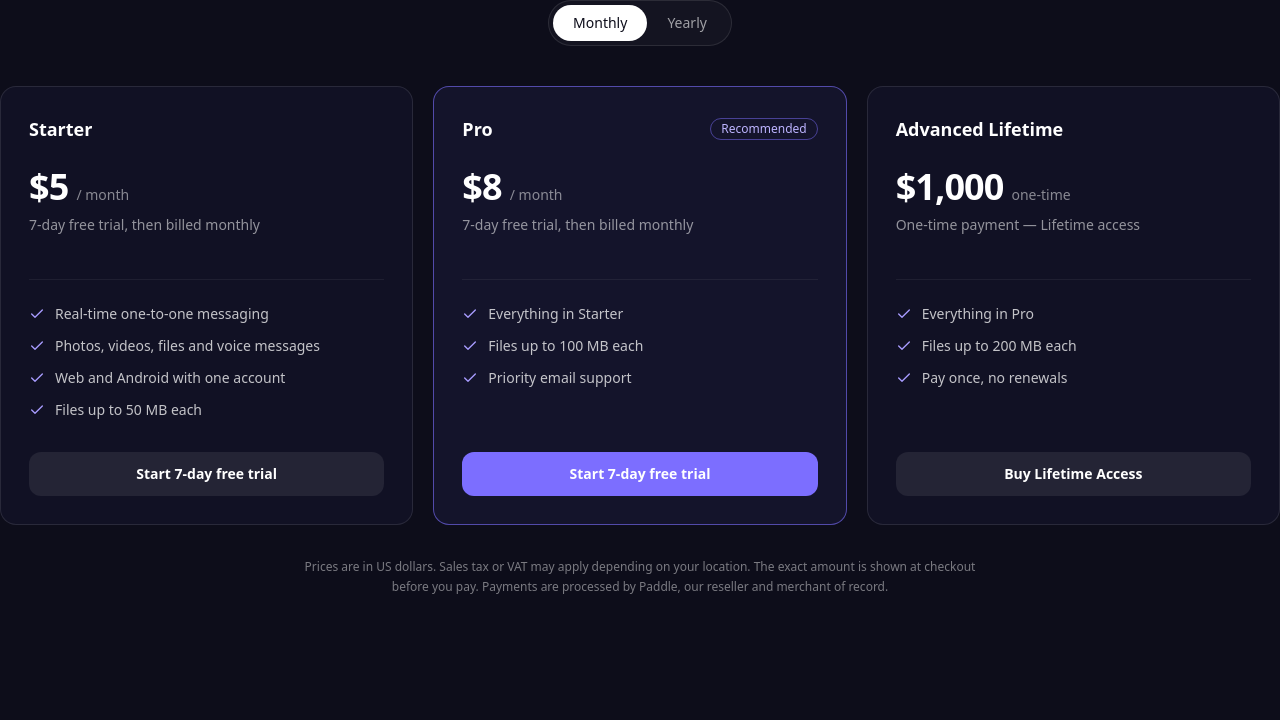
Test: pricing table › shows exactly the five final prices and switches Starter and Pro between monthly and yearly
Check: the text with test id "price-starter" reads "$5", box [29, 162, 68, 211]
Check: the text "/ month" next to "$5" is shown, box [76, 185, 129, 204]
Click the radio button labelled "Yearly" at (687, 23), box [647, 5, 727, 41]
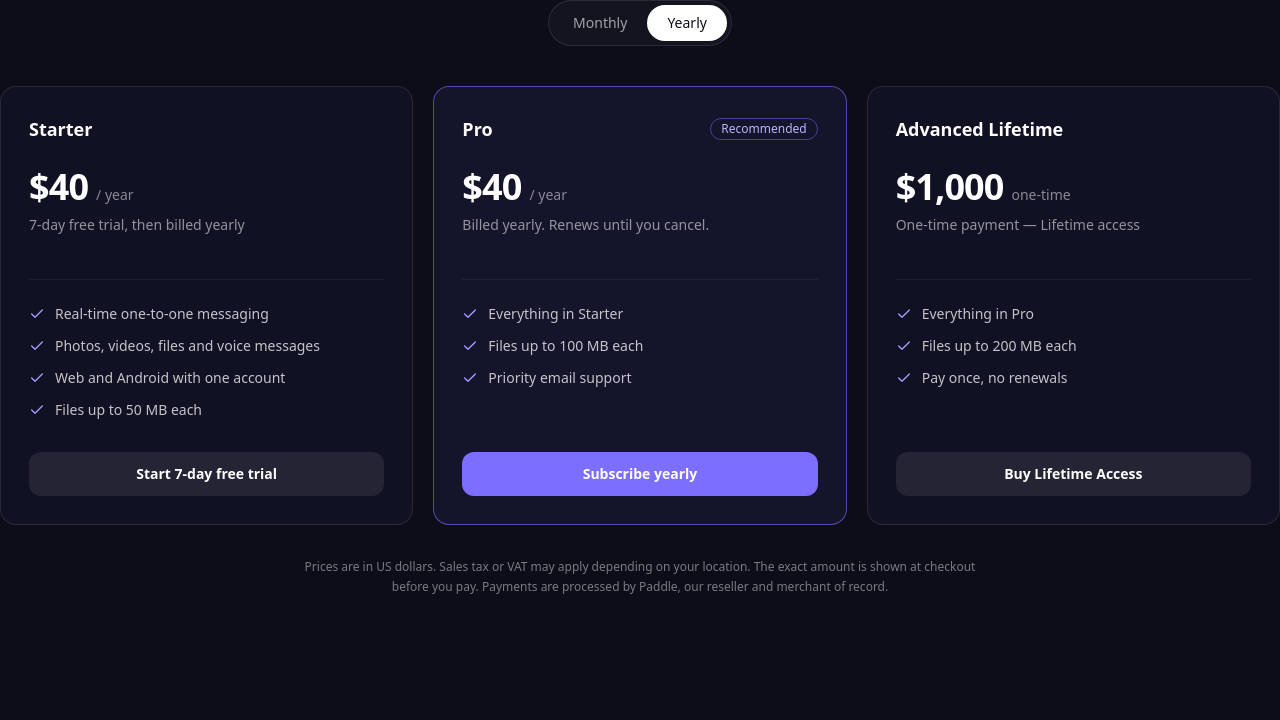
Check: the text with test id "price-starter" reads "$40", box [29, 162, 88, 211]
Check: the 1st text "/ year" is shown, box [96, 185, 134, 205]
Check: the text with test id "price-pro" reads "$40", box [462, 162, 521, 211]
Click the radio button labelled "Monthly" at (600, 23), box [553, 5, 647, 41]
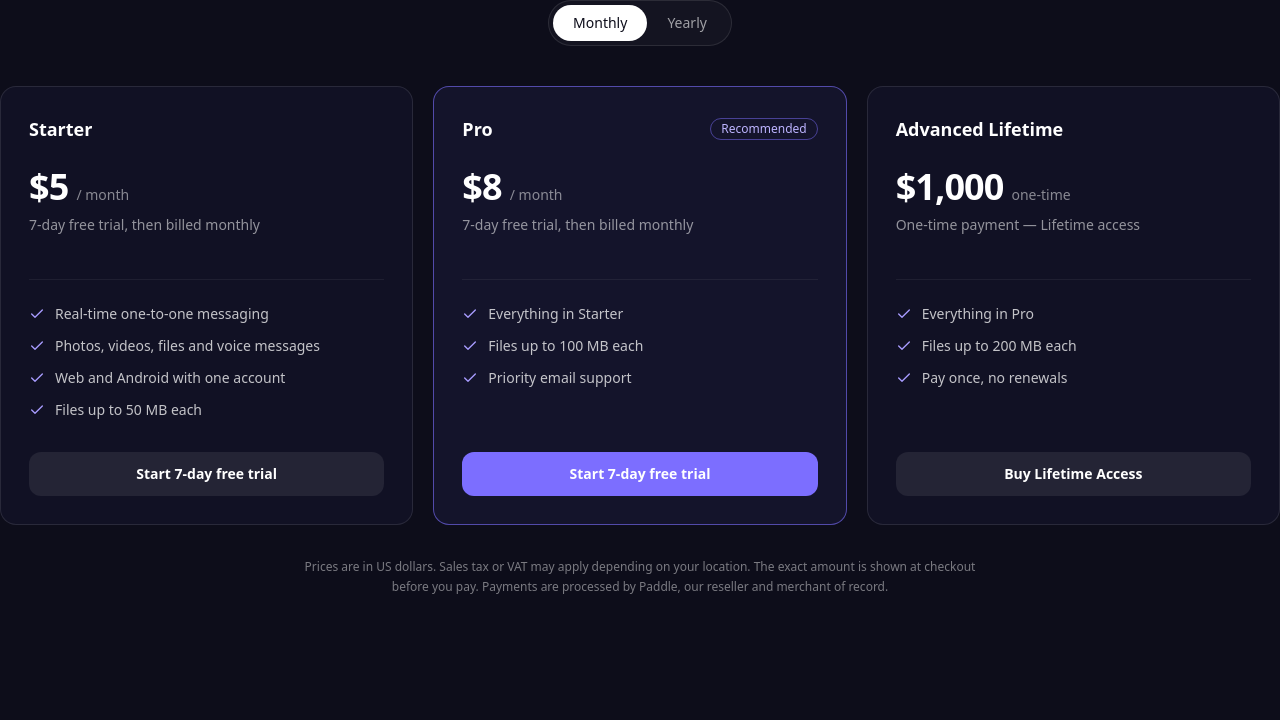
Check: the text with test id "price-pro" reads "$8", box [462, 162, 502, 211]
